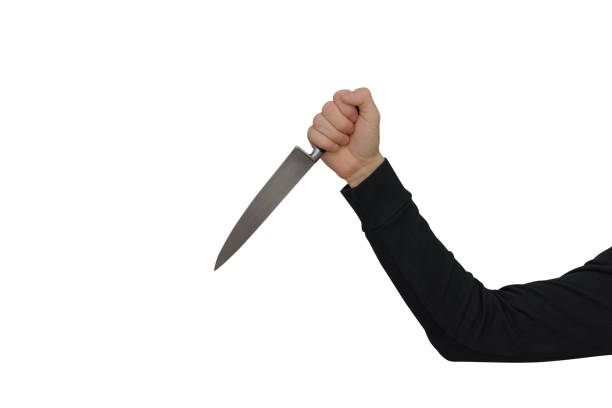knife: (213, 142, 326, 274)
